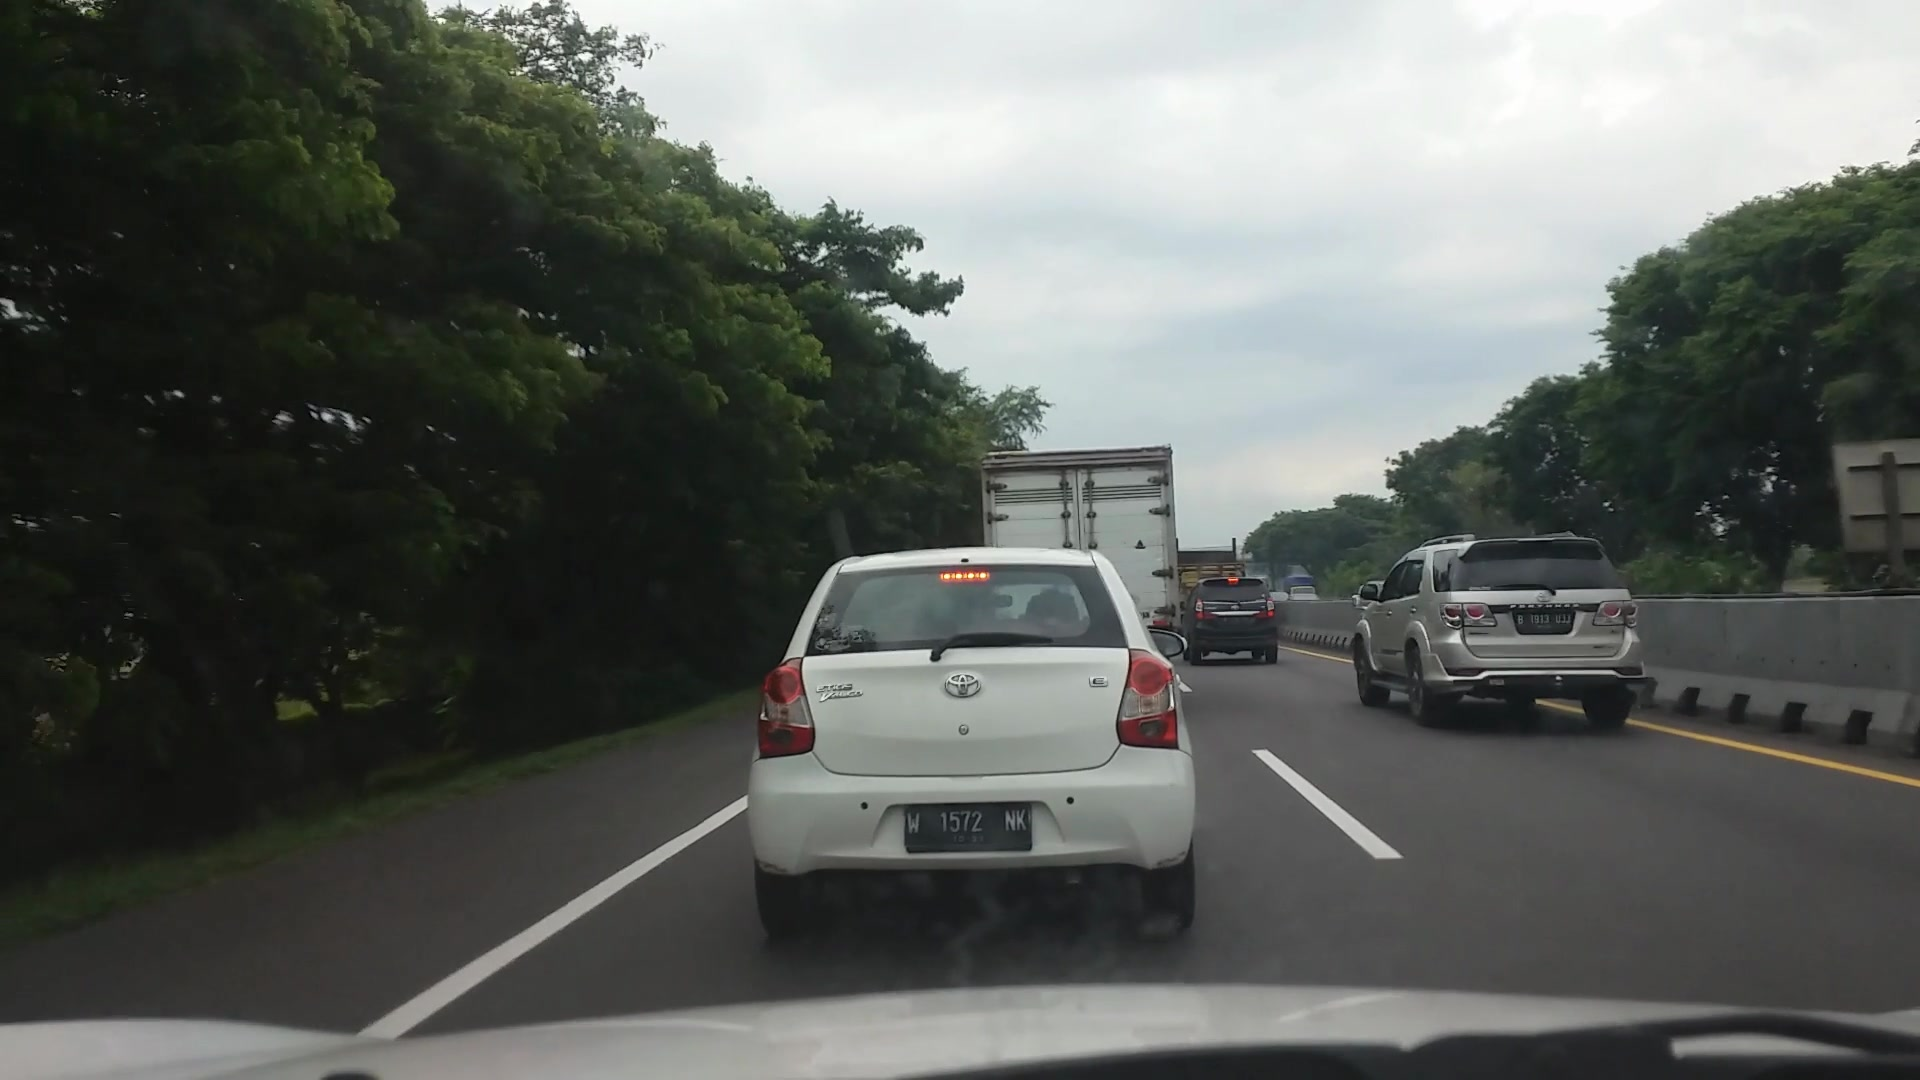plate_positive: (903, 800, 1033, 853), (1516, 611, 1572, 630)
